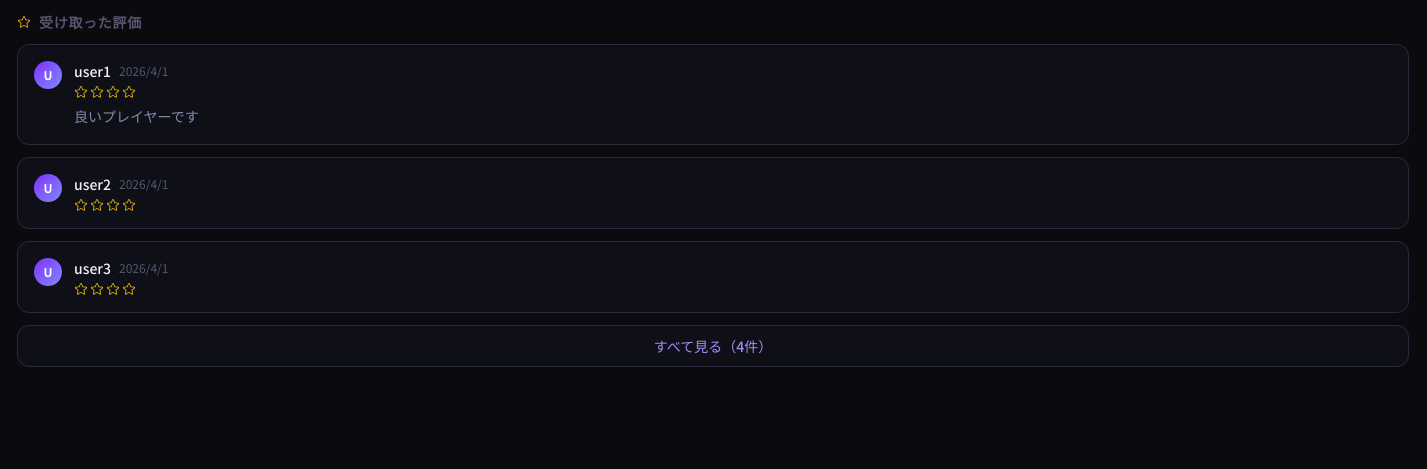
ReceivedRatingsList › 「すべて見る」クリックで全件表示され「折りたたむ」に変わる
The width and height of the screenshot is (1427, 469).
Click the button "すべて見る（4件）".
click(713, 346)  # box [17,325,1409,367]
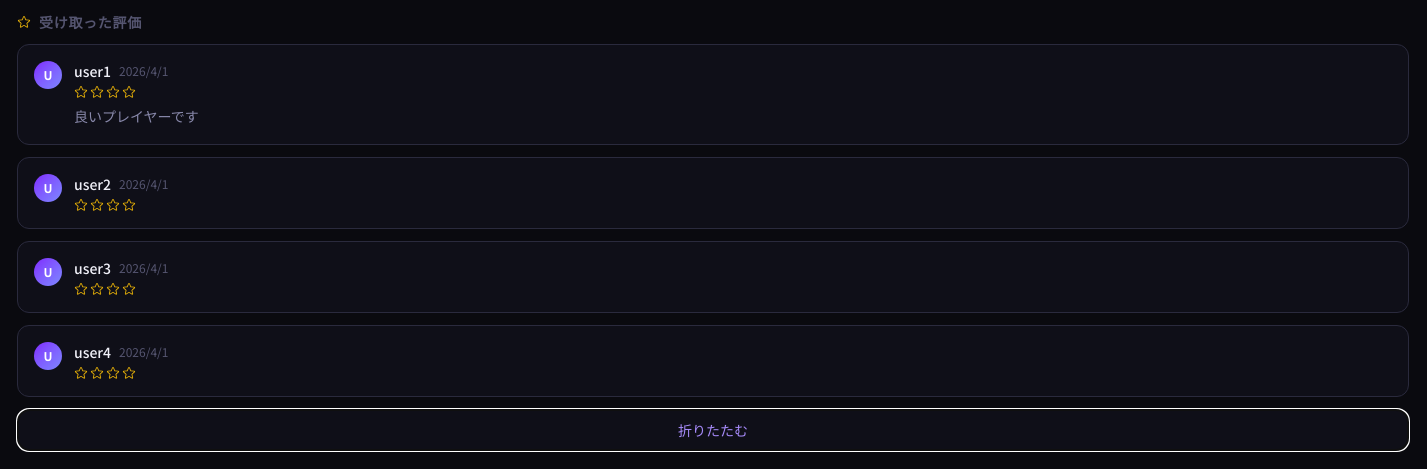
Now the text "user4" is shown, box [74,342,111,362]
Now the button "折りたたむ" is shown, box [17,409,1409,451]
